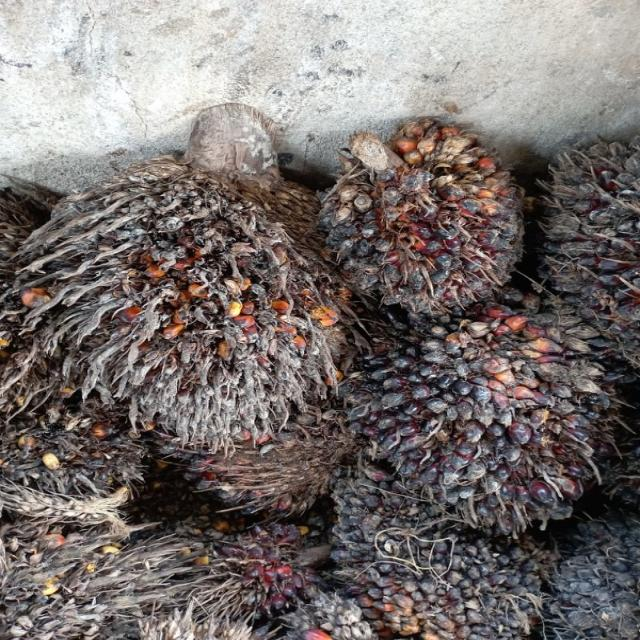fraksi 00: (259, 61, 581, 346), (344, 272, 630, 551)
fraksi 4: (16, 131, 380, 459)
